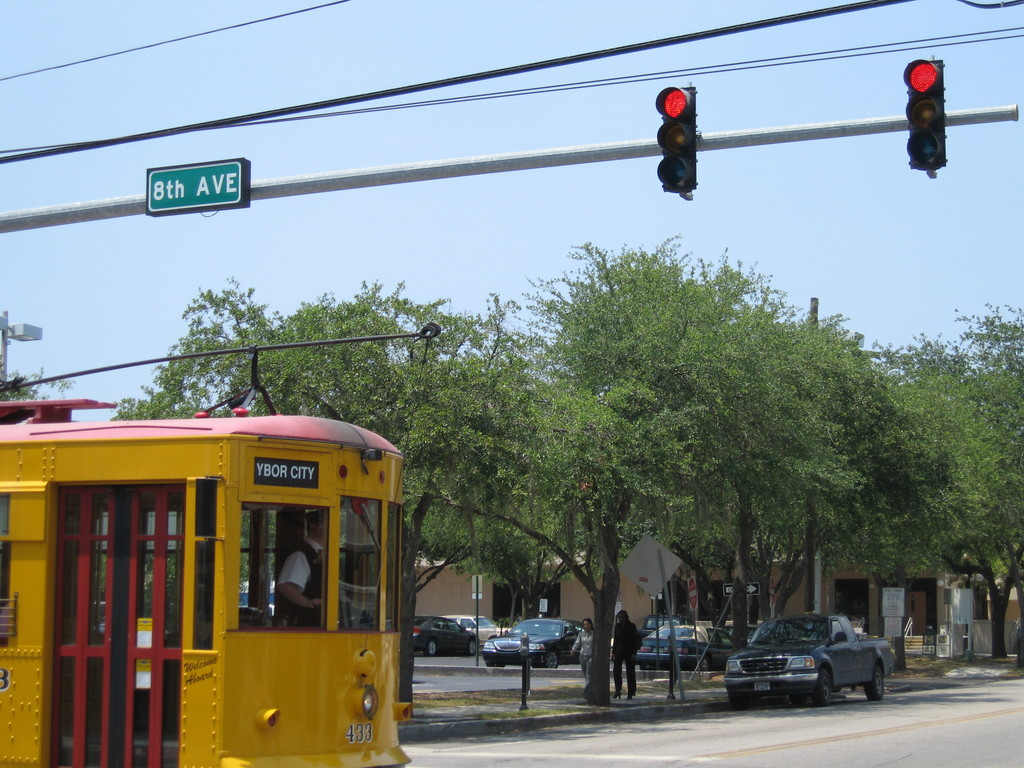red_light: (908, 59, 945, 167), (661, 88, 698, 188)
